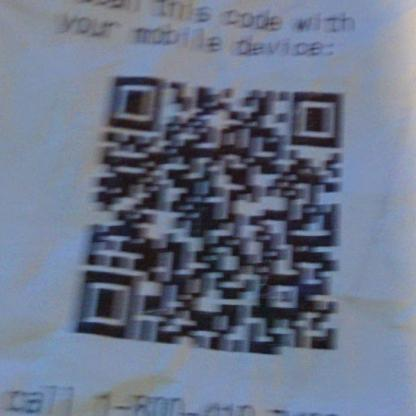qr: (60, 72, 352, 367)
